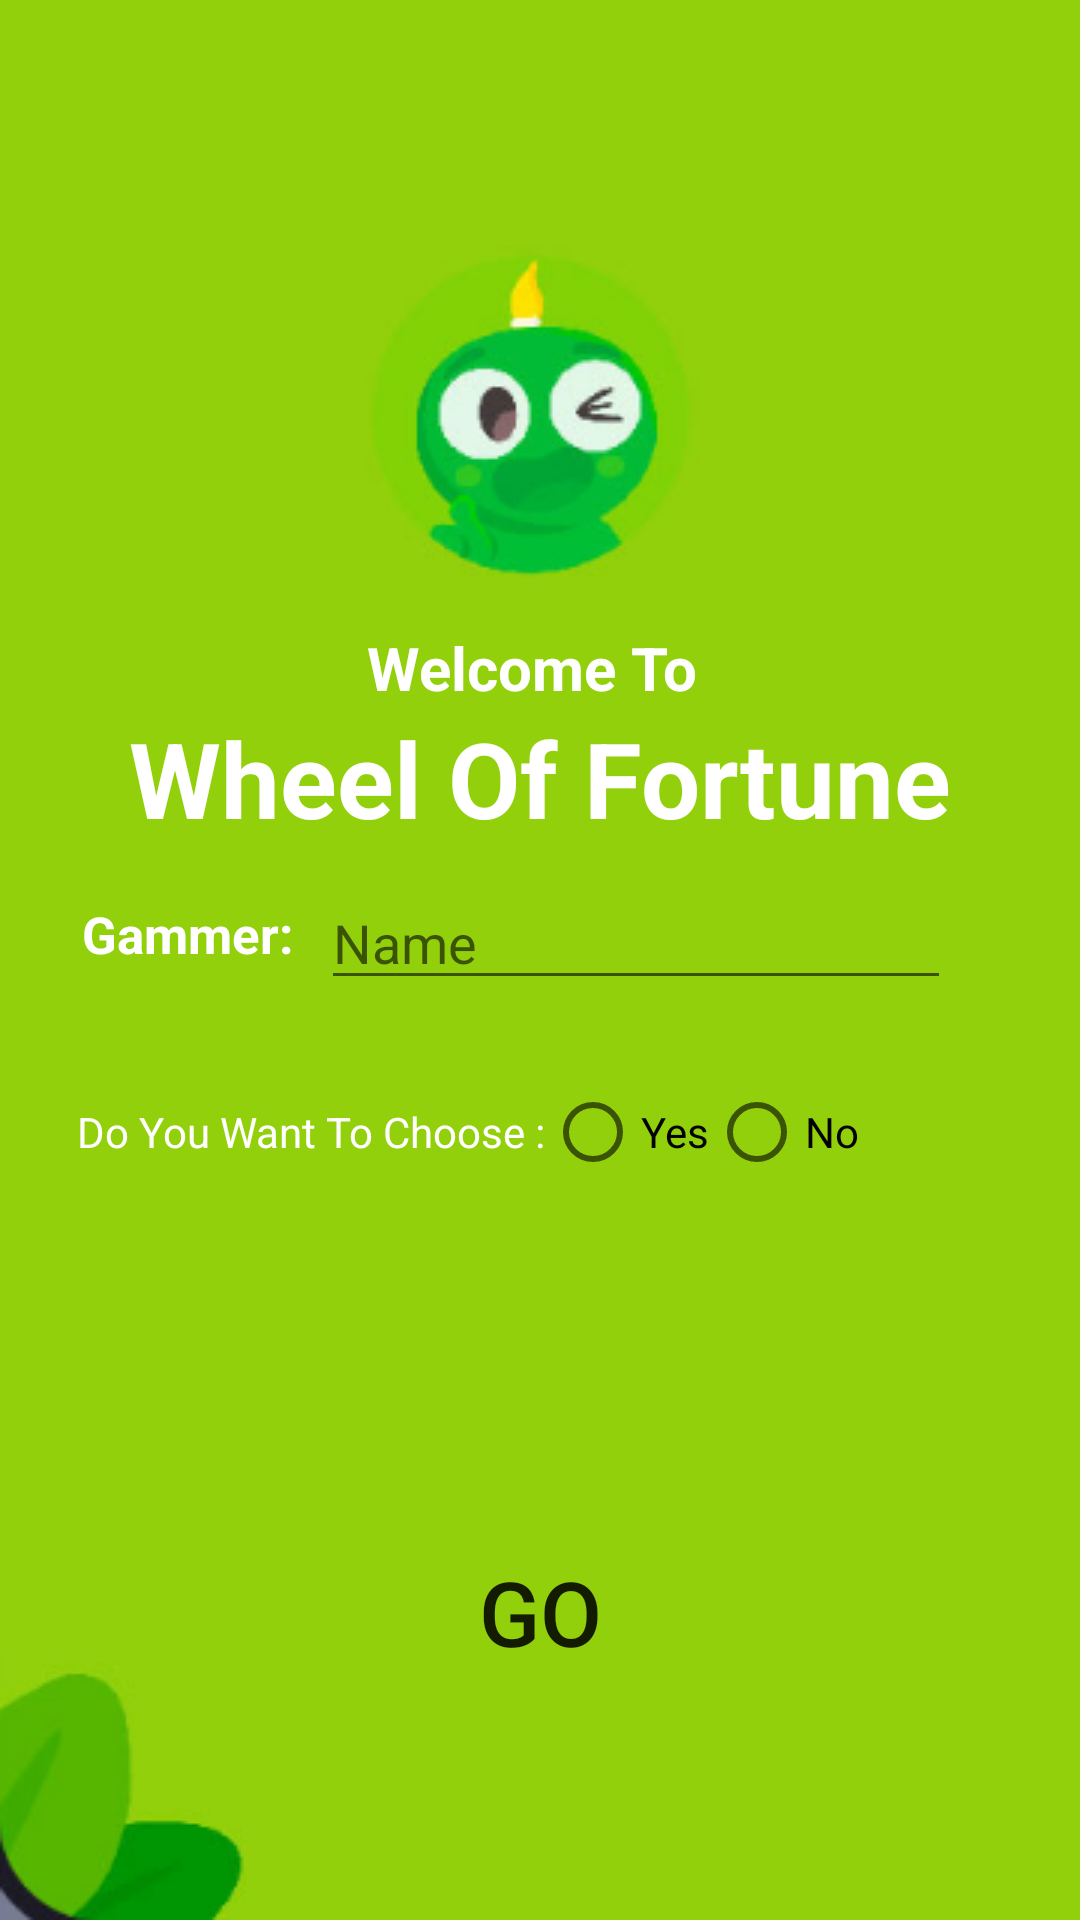

Locate icon controls on the screen. Image size 1080x1920, boxes as (x1, y1, x2, y2).
cartoon: (412, 261, 659, 575)
leafs: (0, 1674, 243, 1920)
